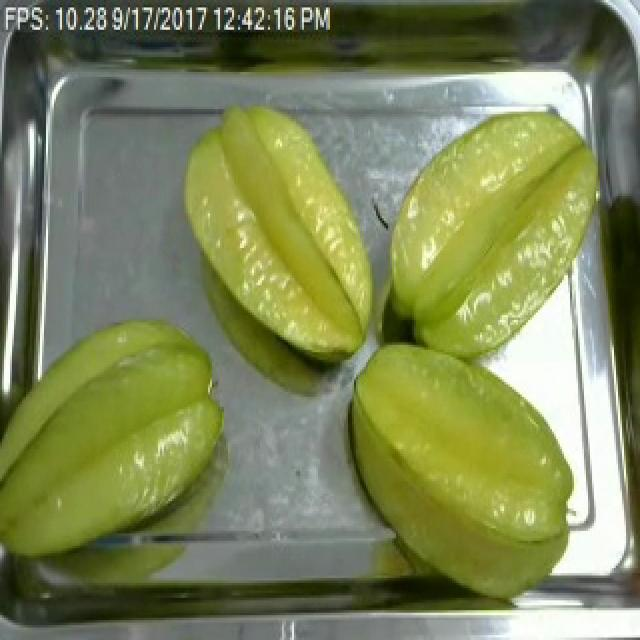fruit: (336, 330, 584, 610), (370, 102, 616, 374), (0, 303, 240, 573), (170, 94, 388, 377)
